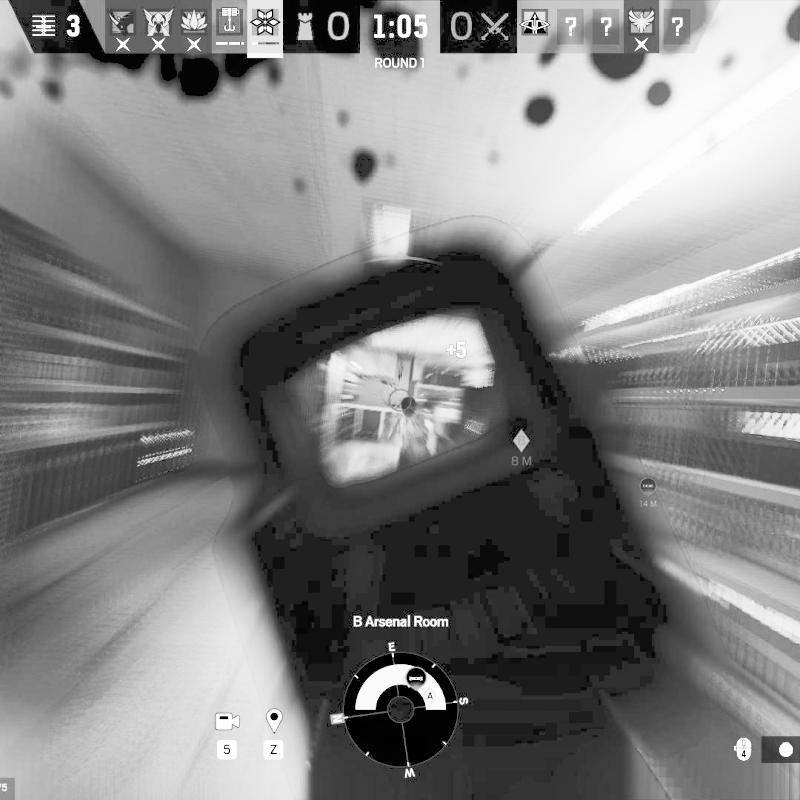Character: (386, 393, 430, 471)
Head: (400, 396, 418, 418)
